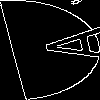A: (25, 25, 100, 65)
